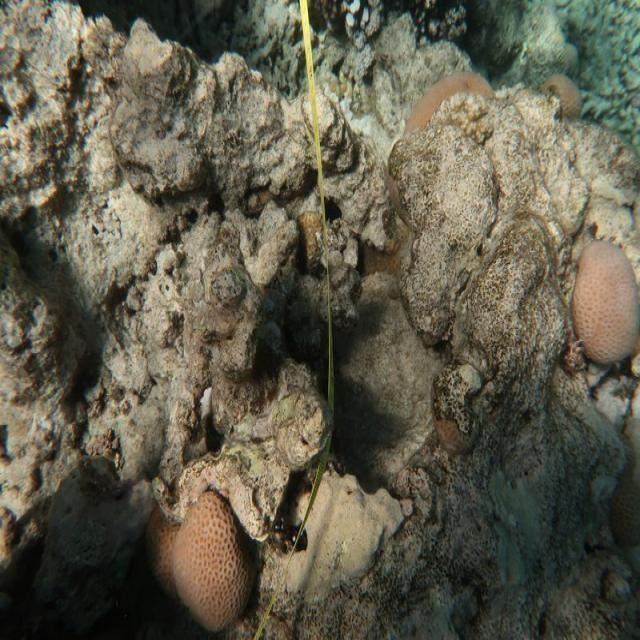Healthy Coral: (169, 487, 269, 634), (571, 230, 640, 369), (404, 65, 495, 136), (540, 67, 586, 122)
